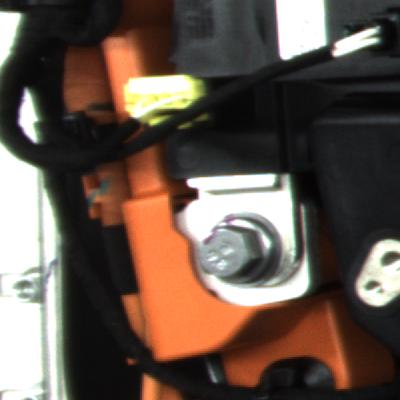nut_b: (188, 207, 286, 297)
